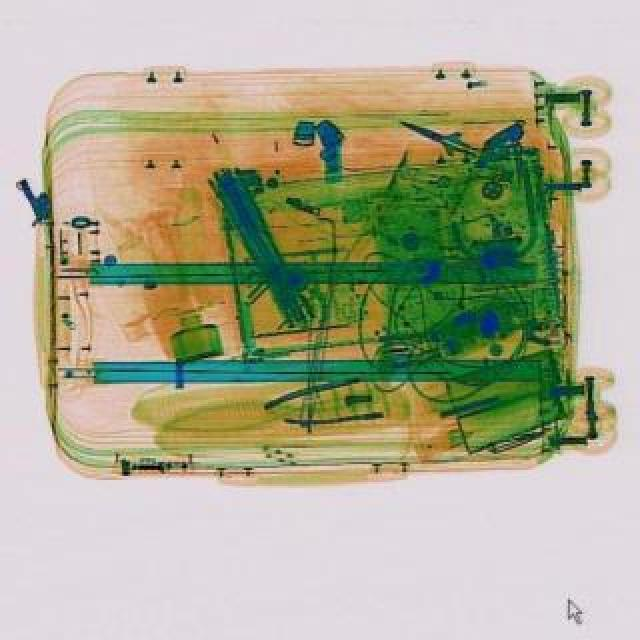knife: (392, 106, 484, 162)
